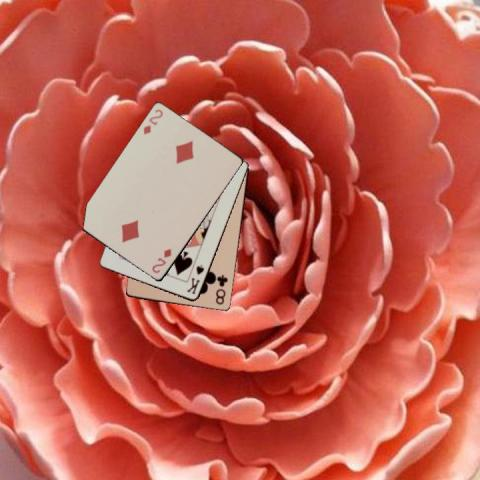2d: (140, 106, 164, 136), (148, 246, 172, 275)
8c: (213, 272, 229, 306)
Ks: (184, 262, 205, 296)
